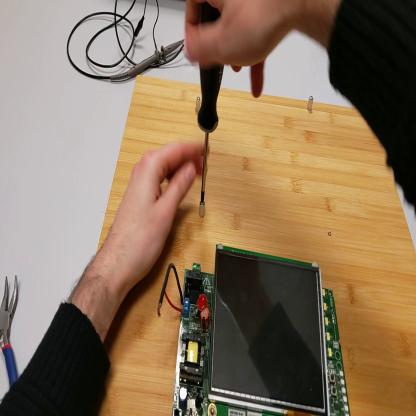hand: (111, 140, 202, 289), (181, 2, 295, 85)
low voltage board: (158, 245, 351, 415)
oscilloscope probe tip: (113, 37, 187, 79)
pliers: (2, 276, 25, 390)
screwdriver-: (199, 5, 224, 205)
working area: (98, 75, 416, 416)
